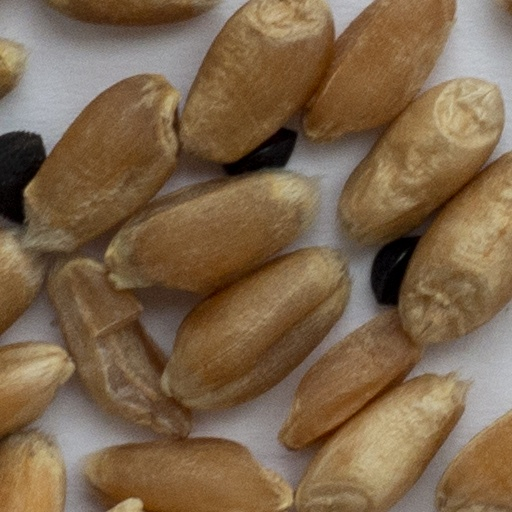Agrostemma-poly: (0, 132, 44, 222)
Fallopia-Convolvulus-poly: (223, 130, 295, 174), (372, 234, 417, 302)
